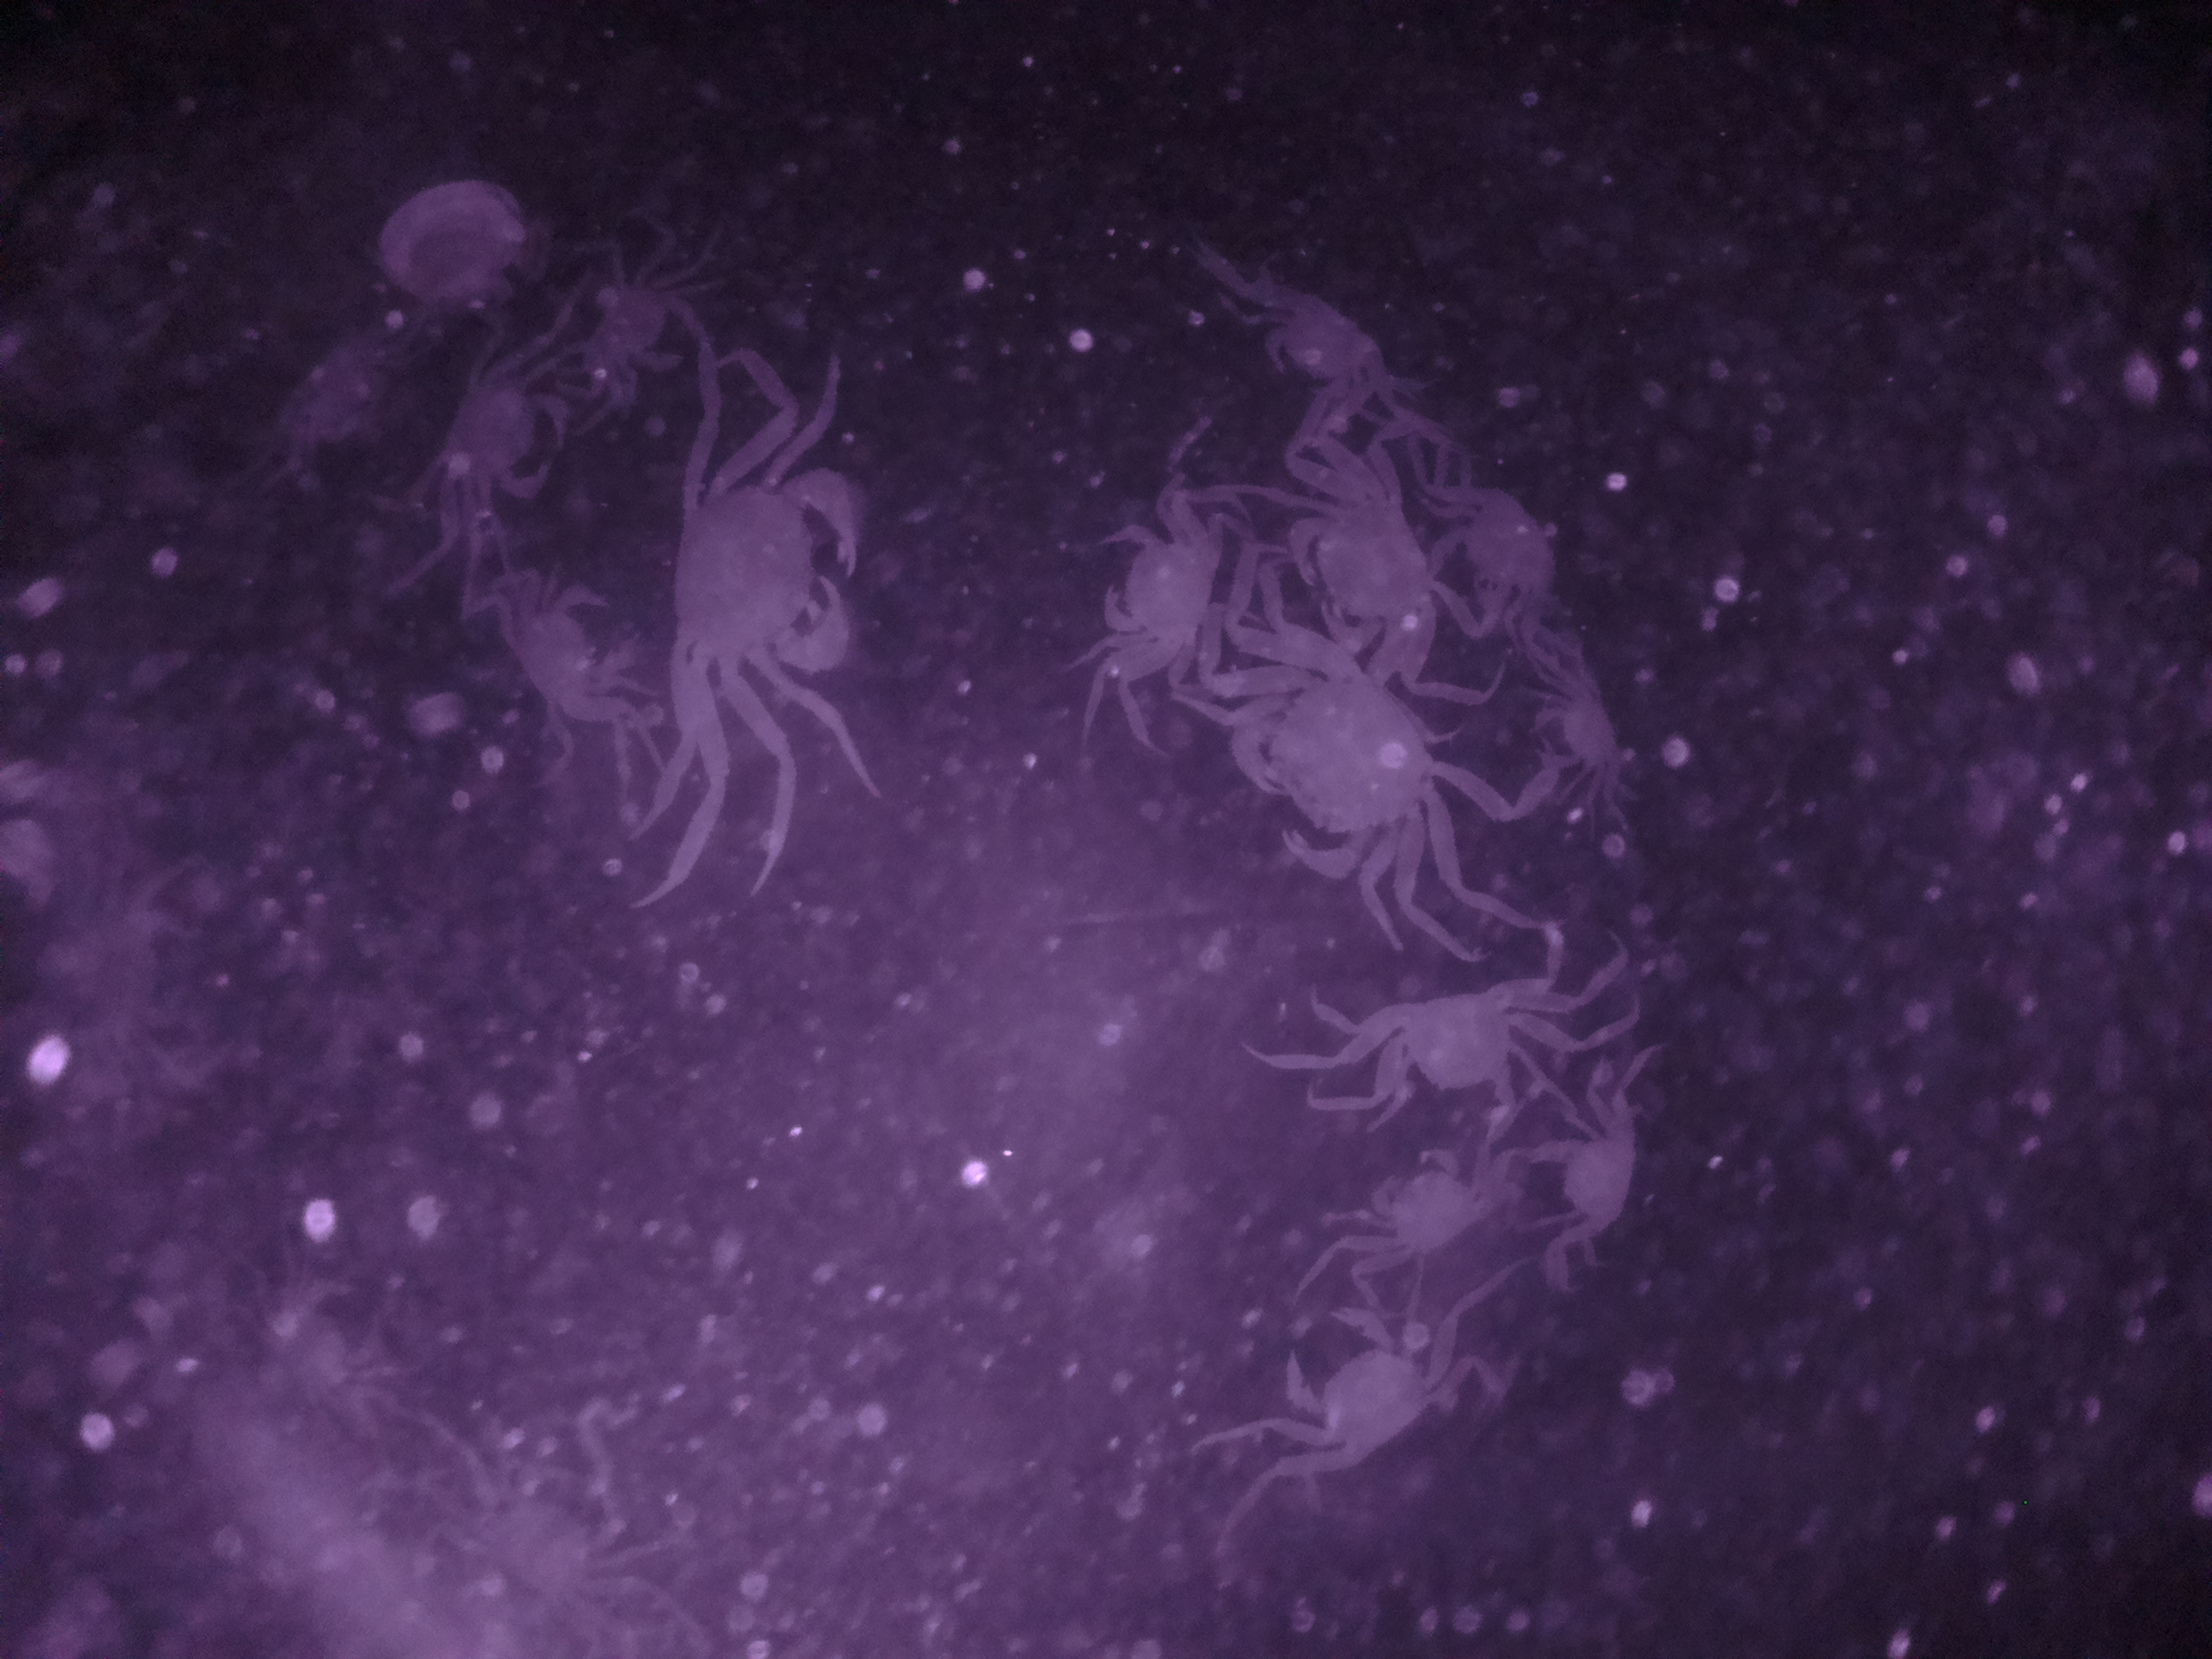Crab: (1217, 620, 1446, 899), (639, 458, 873, 680), (1270, 1288, 1461, 1480), (1327, 962, 1555, 1121), (1087, 500, 1231, 685), (430, 350, 580, 514), (1527, 1103, 1658, 1244), (1534, 659, 1632, 795)
